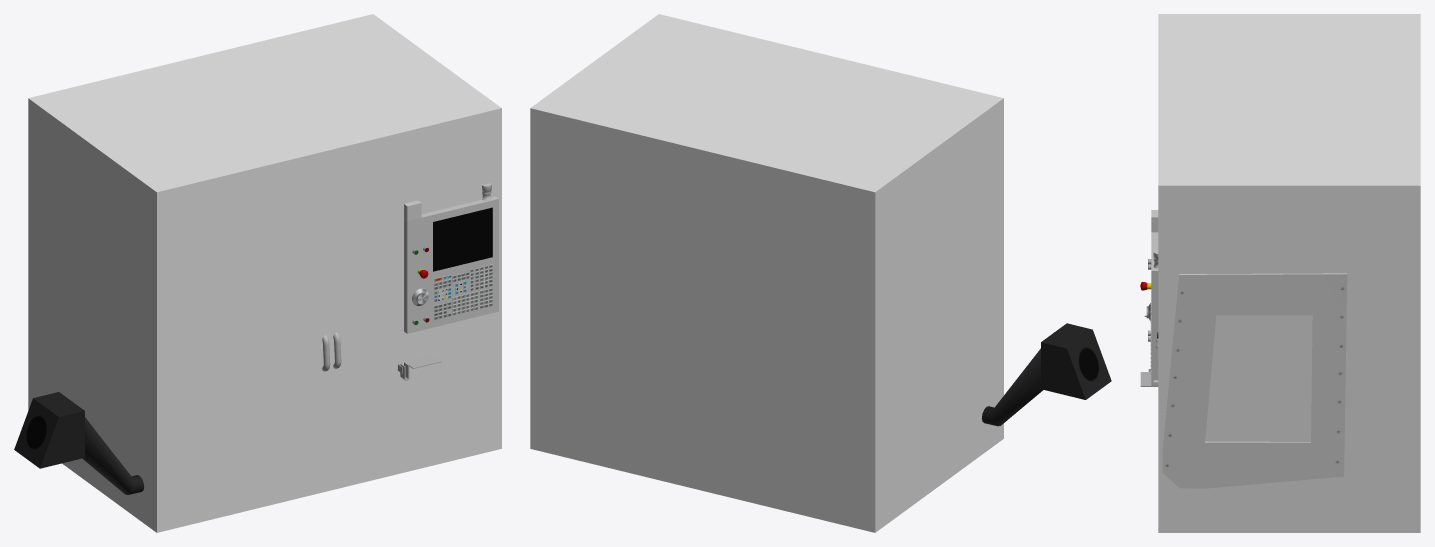
Rendered from HaasTM1 (v. 24-04) J2 (Texturing).fbx.
3 views of the same model, side by side, from view 1: azimuth 30°, elevation 25°; view 2: azimuth 150°, elevation 25°; view 3: azimuth 270°, elevation 25° (orthographic).
Visible parts, largest first — view 1: ReferenceCube, PanelBase, Exhaust, Screen; view 2: ReferenceCube, Exhaust; view 3: ReferenceCube, OuterCase, PanelBase.
Part boxes in pixels (x1=…): ReferenceCube: x1=28, y1=14, x2=501, y2=532; PanelBase: x1=404, y1=183, x2=498, y2=333; Exhaust: x1=14, y1=392, x2=144, y2=494; Screen: x1=433, y1=207, x2=492, y2=271; ReferenceCube: x1=530, y1=14, x2=1003, y2=532; Exhaust: x1=982, y1=323, x2=1111, y2=426; ReferenceCube: x1=1158, y1=14, x2=1420, y2=532; OuterCase: x1=1162, y1=273, x2=1347, y2=488; PanelBase: x1=1151, y1=232, x2=1158, y2=385.
Size of the model in its own units: 324 by 230 by 168.
